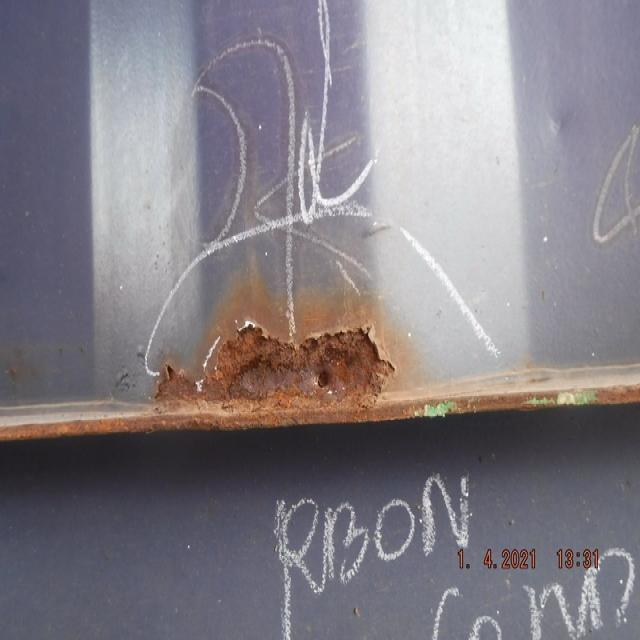rust: (155, 325, 393, 404)
